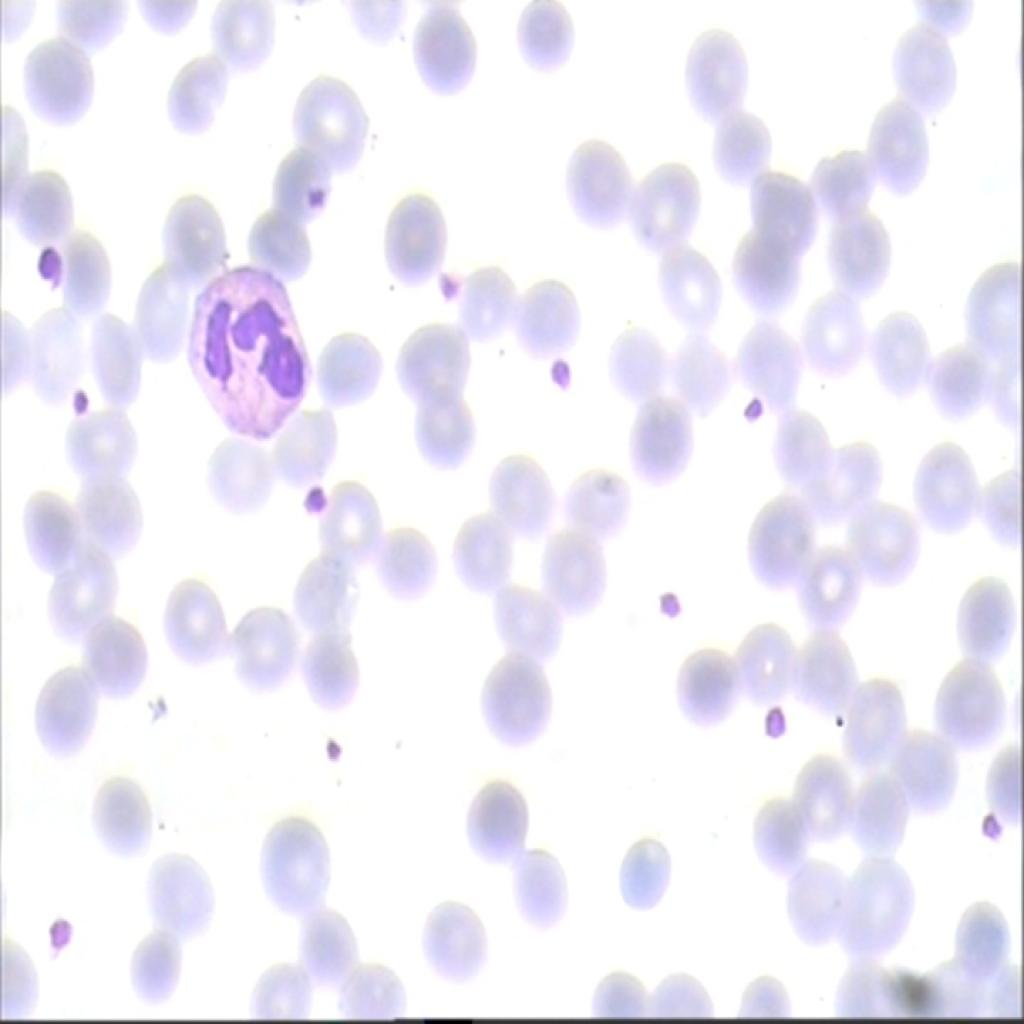Neutrofil: (169, 250, 313, 444)
Platelet: (741, 686, 788, 756), (26, 236, 66, 290), (544, 345, 580, 403), (651, 578, 687, 636), (290, 471, 330, 523), (44, 900, 78, 960), (427, 252, 459, 310), (314, 717, 343, 775), (61, 375, 91, 430), (972, 802, 1006, 850), (297, 171, 327, 224), (742, 386, 771, 426), (823, 698, 842, 738)
